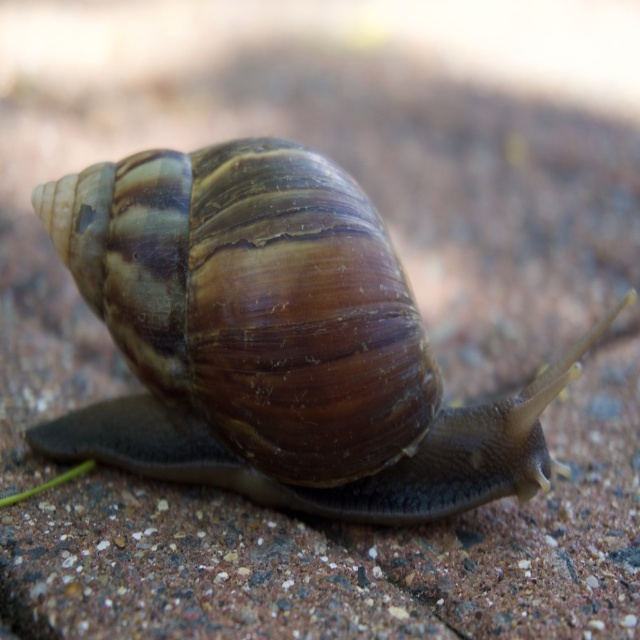Snail: (16, 134, 639, 530)
